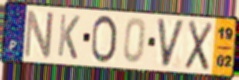0: (121, 16, 148, 66)
K: (56, 12, 82, 61)
N: (22, 8, 56, 60)
O: (89, 14, 118, 65)
V: (155, 17, 187, 70)
X: (183, 19, 214, 73)
